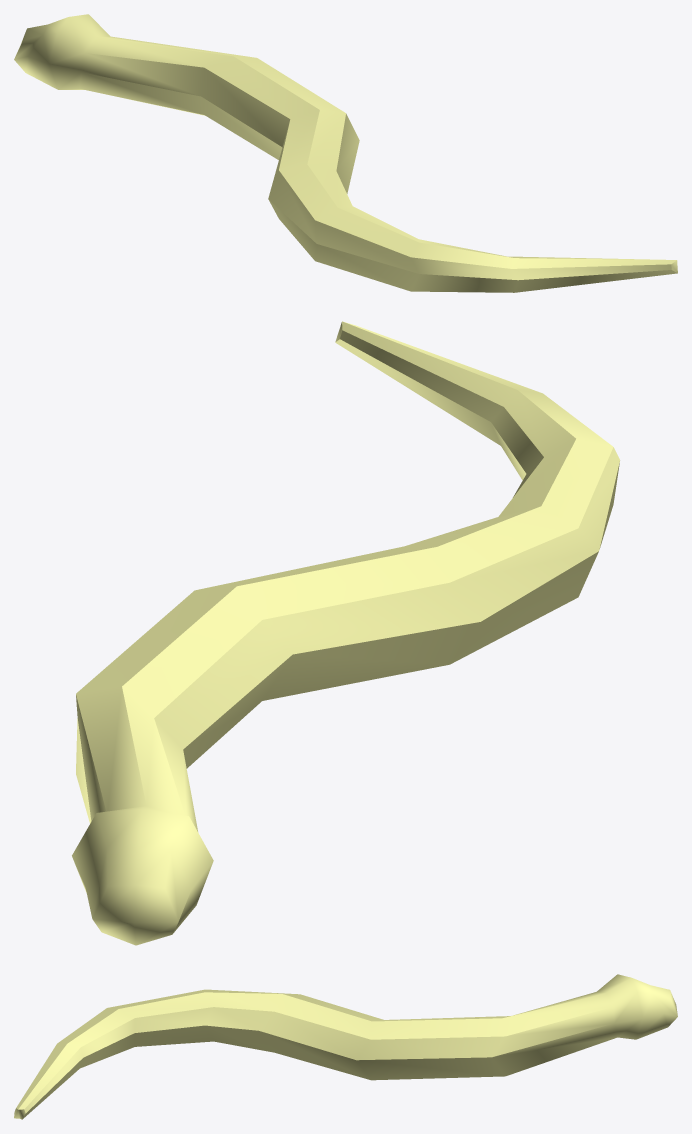
The model's file is python 1.fbx.
The picture shows the model from 3 angles, top to bottom: view 1: azimuth 30°, elevation 25°; view 2: azimuth 150°, elevation 25°; view 3: azimuth 270°, elevation 25°; orthographic projection. The views are drawn at different scales.
Visible parts, largest first — view 1: pCube1; view 2: pCube1; view 3: pCube1.
Part boxes in pixels (bbox=[...]): pCube1: bbox=[14, 14, 677, 292]; pCube1: bbox=[72, 321, 619, 945]; pCube1: bbox=[14, 974, 677, 1119].
Size of the model in its own units: 3.89 by 0.9056 by 9.32.
